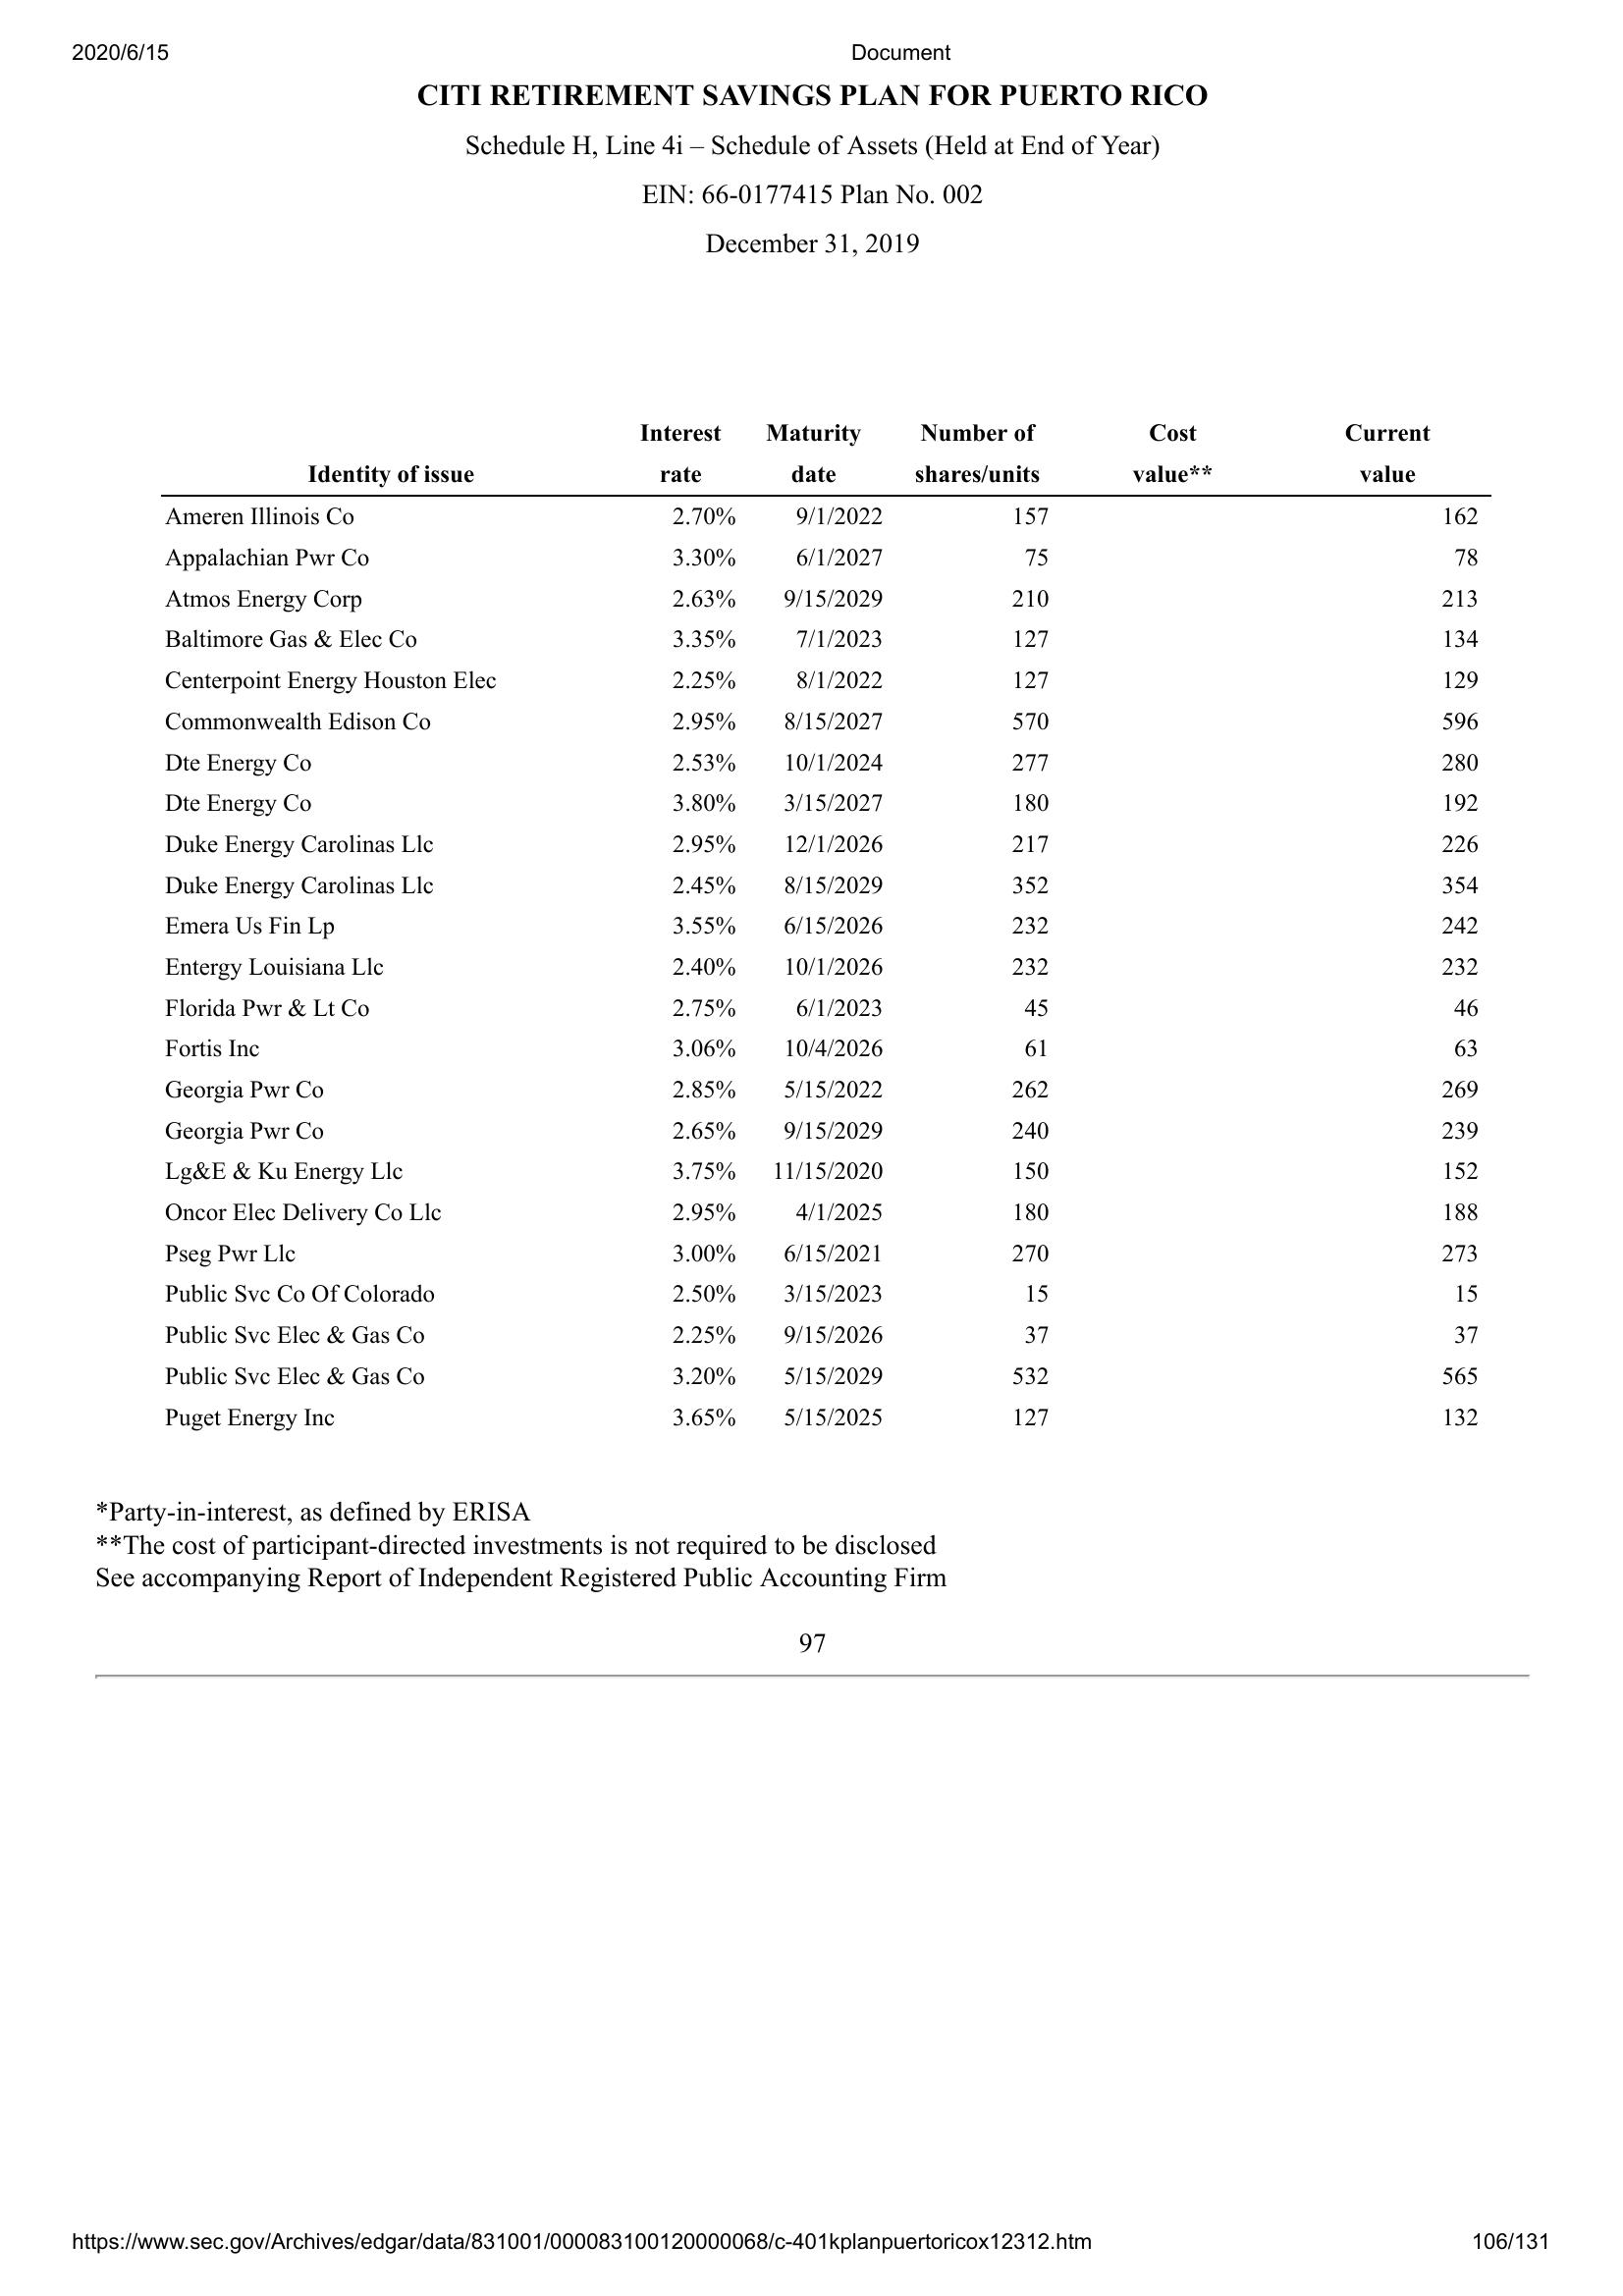table: (146, 407, 1493, 1441)
